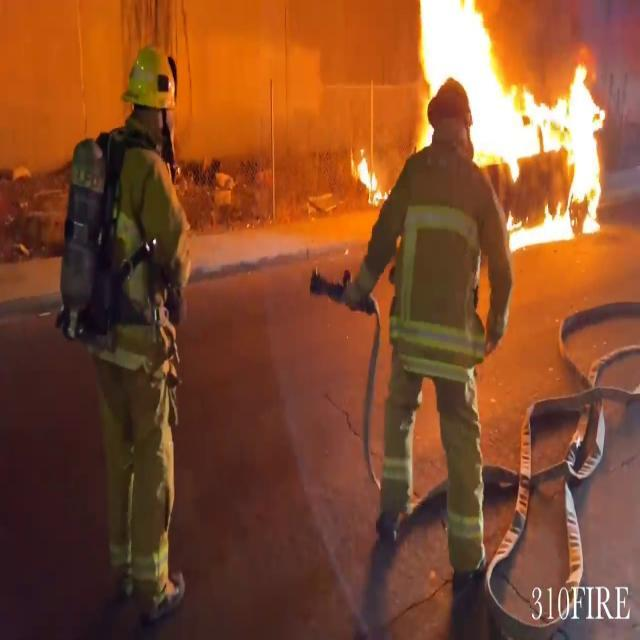Fire: (406, 0, 615, 248), (352, 141, 386, 211)
